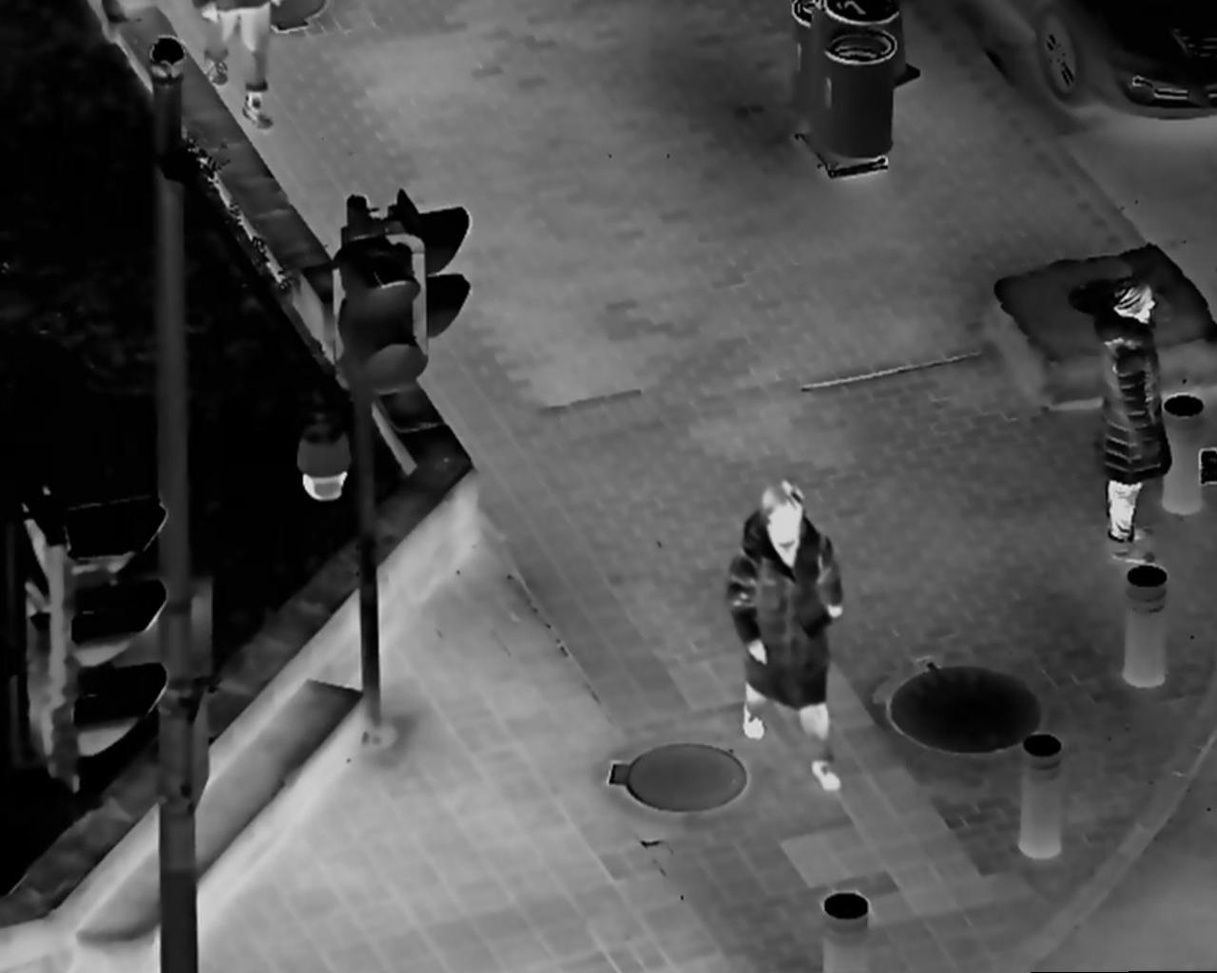person: (721, 479, 844, 792), (1085, 275, 1169, 566)
